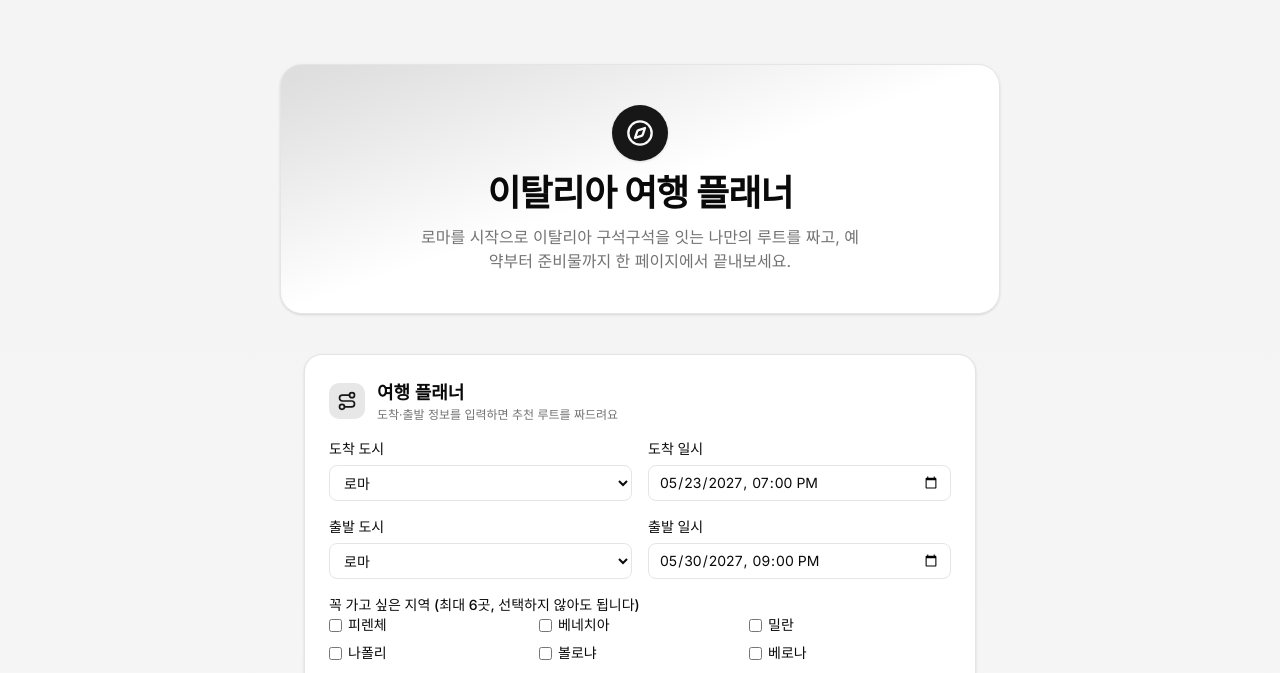
Test: 출발이 도착보다 빠르면 오류를 보여준다
This screenshot has width=1280, height=673.
Replace the text in the field labelled "도착 일시" with "2026-09-18T09:00" at (800, 483), box [648,465,951,501]
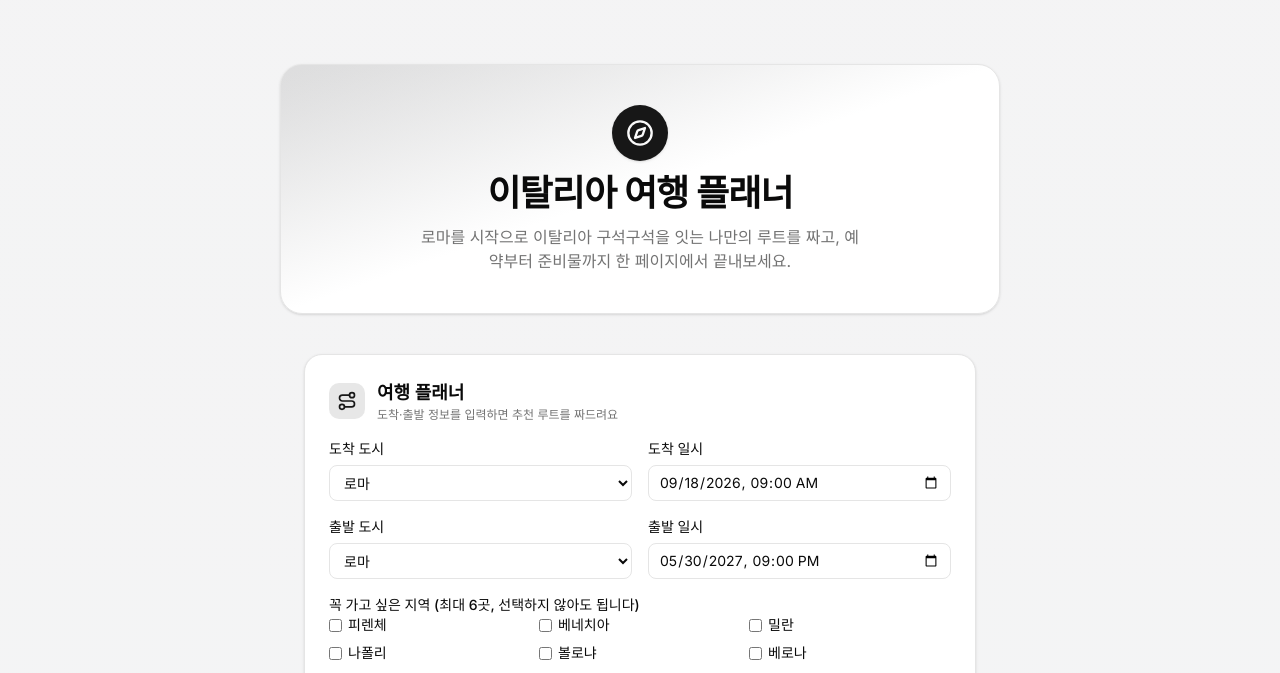
Replace the text in the field labelled "출발 일시" with "2026-09-10T14:00" at (800, 561), box [648,543,951,579]
(page scrolled)
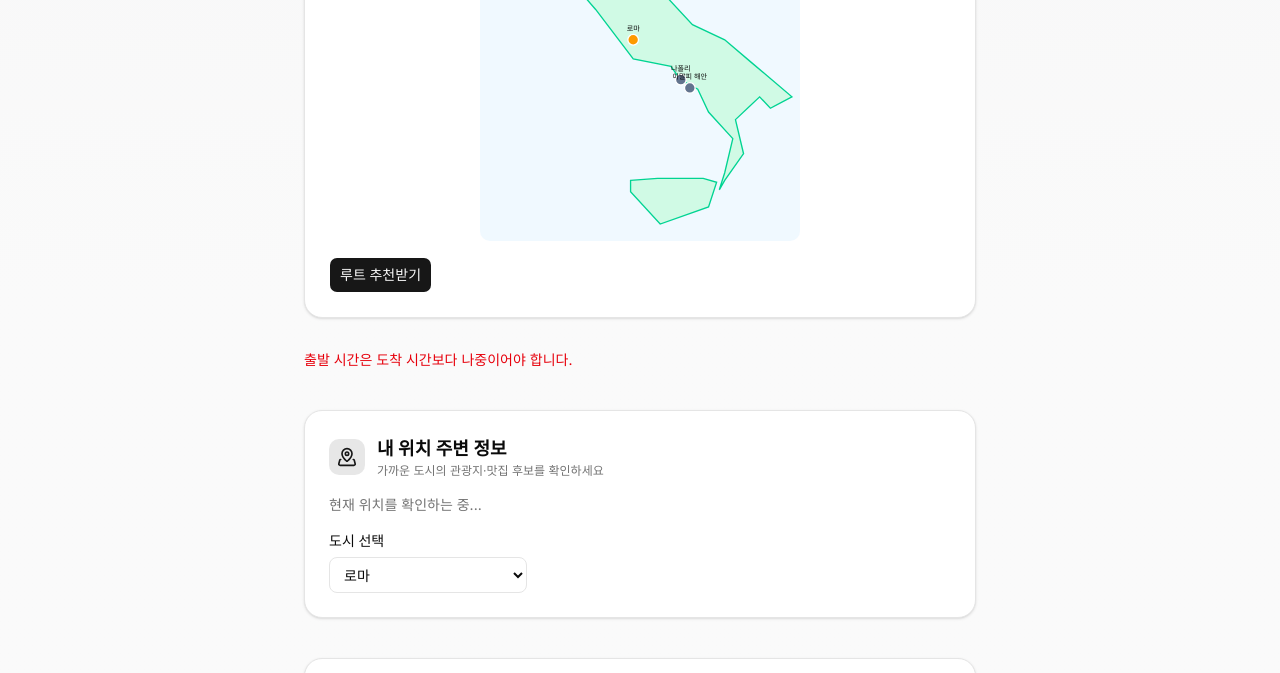
expect the message reads "출발 시간은 도착 시간보다 나중이어야 합니다.": met, box [304,351,572,368]
